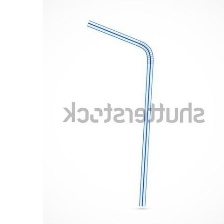drinking_straw: (81, 15, 159, 214)
